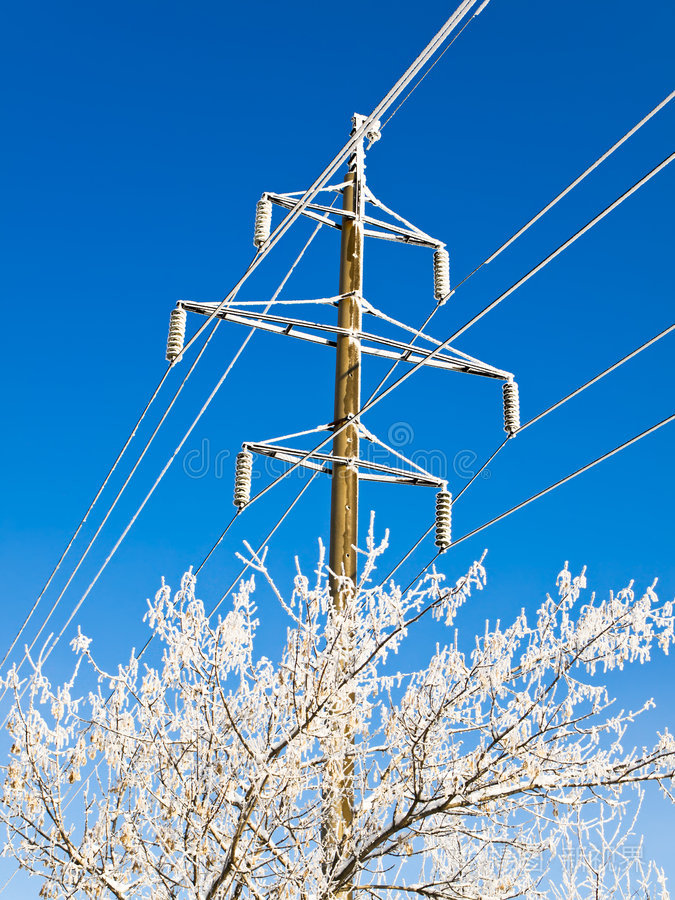insulator: (234, 451, 252, 509), (435, 490, 453, 548), (252, 198, 272, 250), (167, 308, 185, 363), (433, 248, 452, 300), (504, 382, 521, 431)
